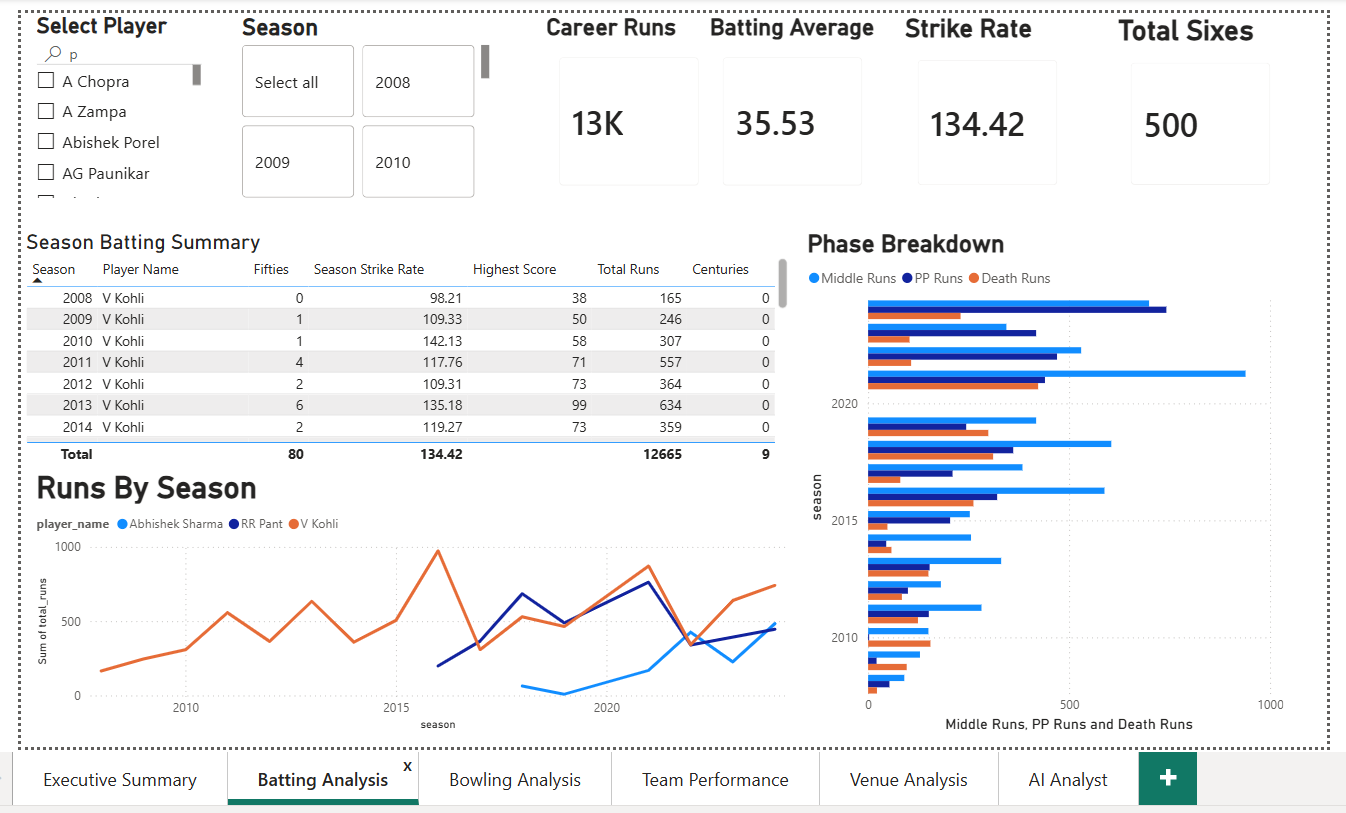

Layout of this report page (visuals, bound fields, positions):
{"tool":"powerbi","page":{"name":"Batting Analysis","canvas":[1280,720],"ordinal":1},"visuals":[{"type":"listSlicer","title":"Select Player","fields":{"Values":["mart_batting.player_name"]},"box":[9.7,0,171.6,186.2],"z":0},{"type":"advancedSlicerVisual","title":"Season","fields":{"Values":["mart_batting.season"]},"box":[212.1,0,252.6,186.2],"z":1},{"type":"cardVisual","title":"Career Runs","fields":{"Data":["Sum(mart_batting.total_runs)"]},"box":[510.1,0,171.6,186.2],"z":2},{"type":"cardVisual","title":"Batting Average","fields":{"Data":["Avg(mart_batting.batting_average)"]},"box":[670.4,0,171.6,186.2],"z":3},{"type":"cardVisual","title":"Strike Rate","fields":{"Data":["Avg(mart_batting.season_strike_rate)"]},"box":[861.4,0,171.6,186.2],"z":4},{"type":"cardVisual","title":"Total Sixes","fields":{"Data":["Sum(mart_batting.total_sixes)"]},"box":[1070.3,0,171.6,186.2],"z":5},{"type":"lineChart","title":"Runs By Season","fields":{"Category":["mart_batting.season"],"Y":["Sum(mart_batting.total_runs)"],"Series":["mart_batting.player_name"]},"box":[9.7,446.9,746.5,260.7],"z":6},{"type":"clusteredBarChart","title":"Phase Breakdown","fields":{"Category":["mart_batting.season"],"Y":["mart_batting.Middle Runs","mart_batting.PP Runs","mart_batting.Death Runs"]},"box":[765.9,212.1,476.1,497.1],"z":7},{"type":"tableEx","title":"Season Batting Summary","fields":{"Values":["mart_batting.season","mart_batting.player_name","Sum(mart_batting.fifties)","Avg(mart_batting.season_strike_rate)","mart_batting.highest_score","Sum(mart_batting.total_runs)","Sum(mart_batting.centuries)"]},"box":[0,212.1,756.2,234.8],"z":8}]}

Visuals, with their boxes on the page's 1280x720 design canvas (x1, y1, x2, y2). These are canvas units, not pixel positions in the 1346x813 screenshot, which may show the page scaled, cropped or inside an application window:
"Select Player" listSlicer: (left=10, top=0, right=181, bottom=186)
"Season" advancedSlicerVisual: (left=212, top=0, right=465, bottom=186)
"Career Runs" cardVisual: (left=510, top=0, right=682, bottom=186)
"Batting Average" cardVisual: (left=670, top=0, right=842, bottom=186)
"Strike Rate" cardVisual: (left=861, top=0, right=1033, bottom=186)
"Total Sixes" cardVisual: (left=1070, top=0, right=1242, bottom=186)
"Runs By Season" lineChart: (left=10, top=447, right=756, bottom=708)
"Phase Breakdown" clusteredBarChart: (left=766, top=212, right=1242, bottom=709)
"Season Batting Summary" tableEx: (left=0, top=212, right=756, bottom=447)
